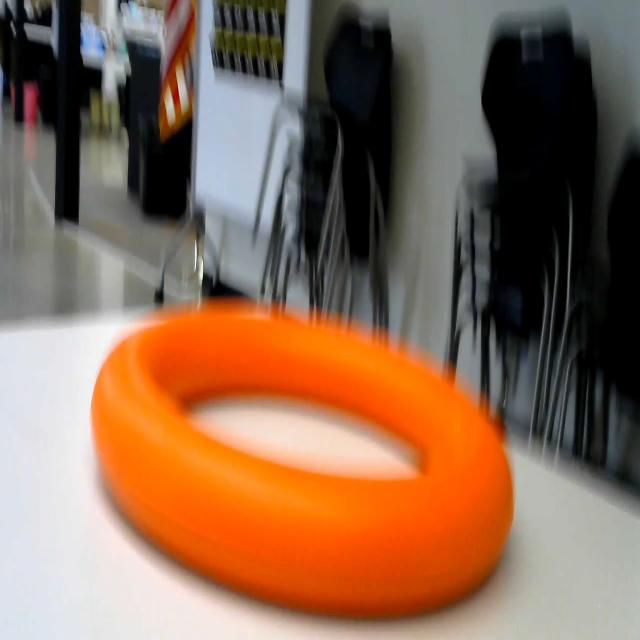note: (81, 278, 530, 618)
